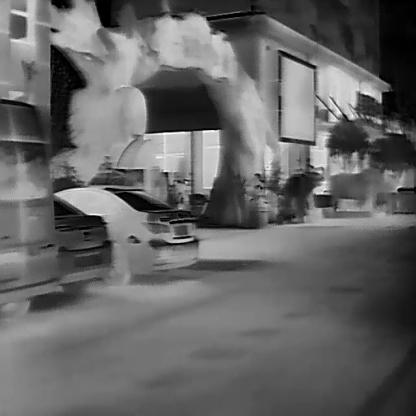car: (58, 187, 199, 283), (0, 96, 58, 318), (54, 192, 109, 282)
